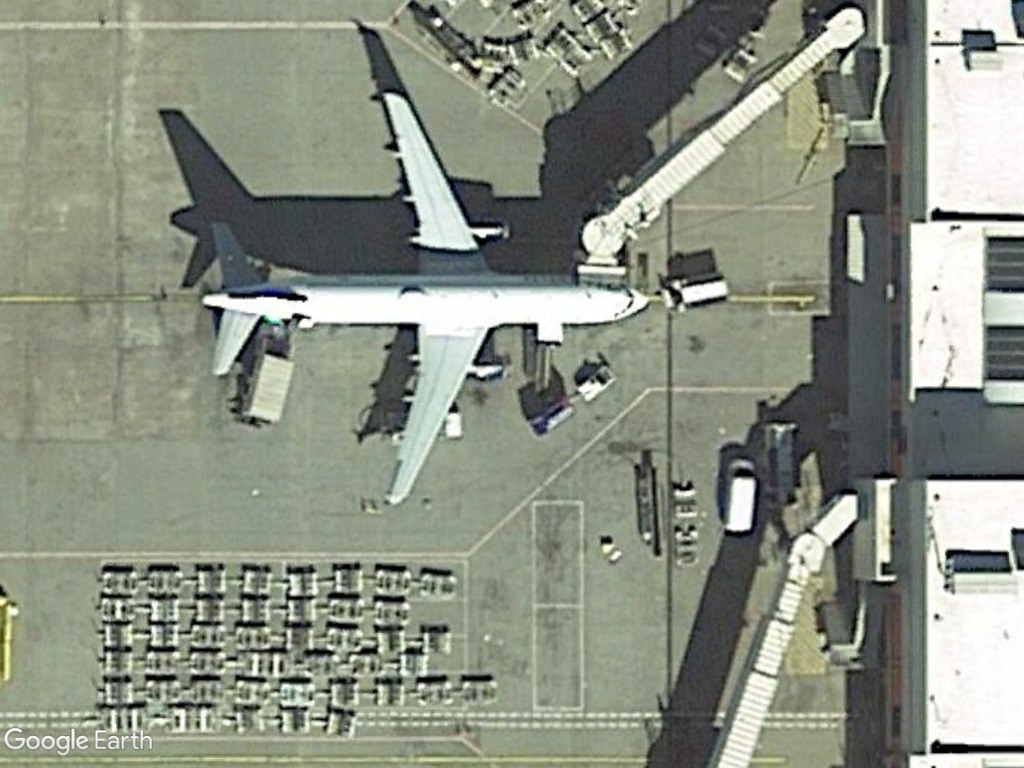airliner: (177, 76, 649, 509)
pushbacktruck: (655, 268, 734, 316)
van: (716, 453, 756, 539)
